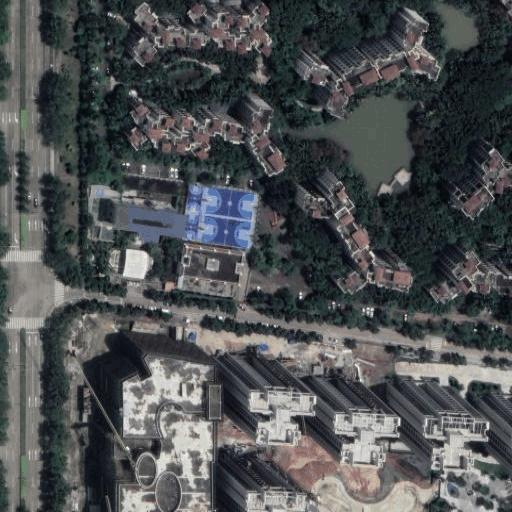building: (96, 328, 191, 512), (294, 169, 403, 284), (312, 0, 429, 97), (168, 95, 283, 166), (418, 238, 512, 293), (450, 135, 512, 205), (210, 352, 278, 407), (297, 374, 365, 429), (385, 379, 452, 434), (212, 454, 279, 509), (107, 197, 181, 235), (467, 393, 512, 447), (124, 93, 170, 142), (184, 249, 243, 283), (182, 276, 239, 298), (122, 248, 147, 280), (299, 53, 323, 78)
